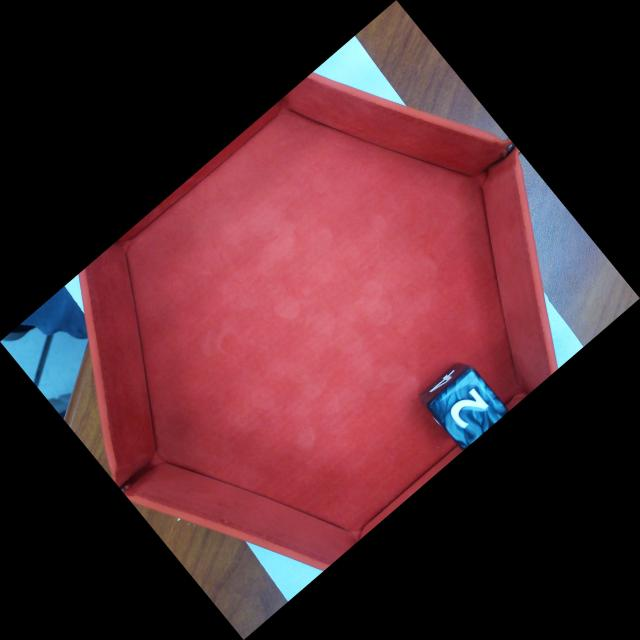dice: (441, 374, 512, 446)
